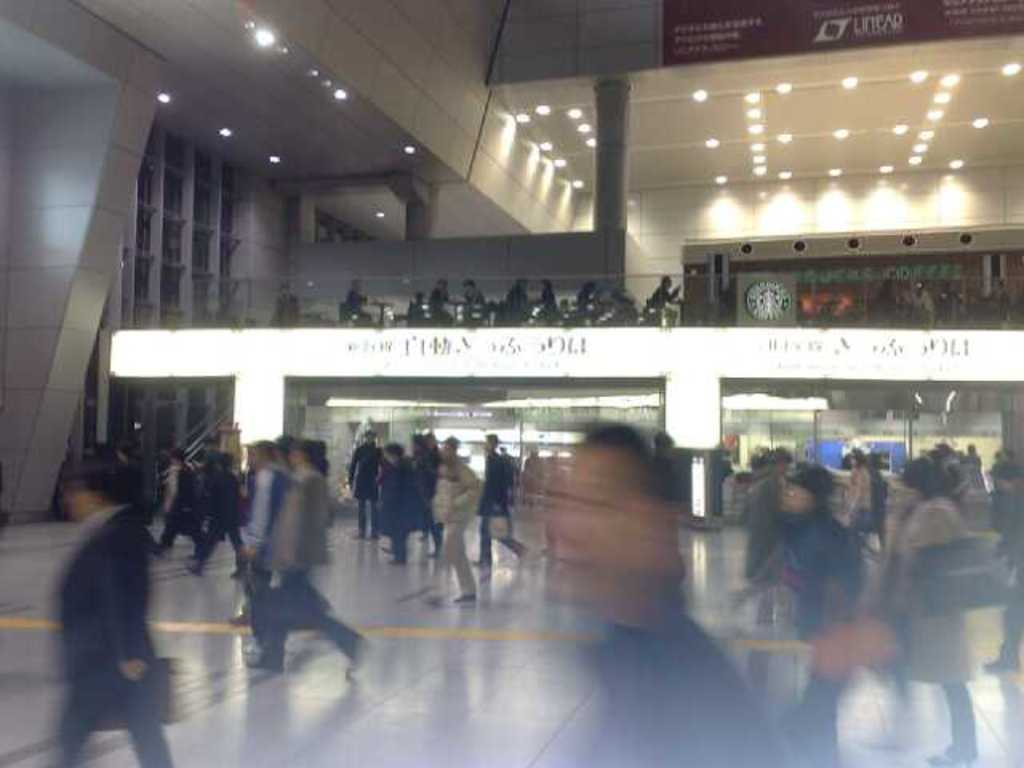face: (537, 437, 673, 598)
